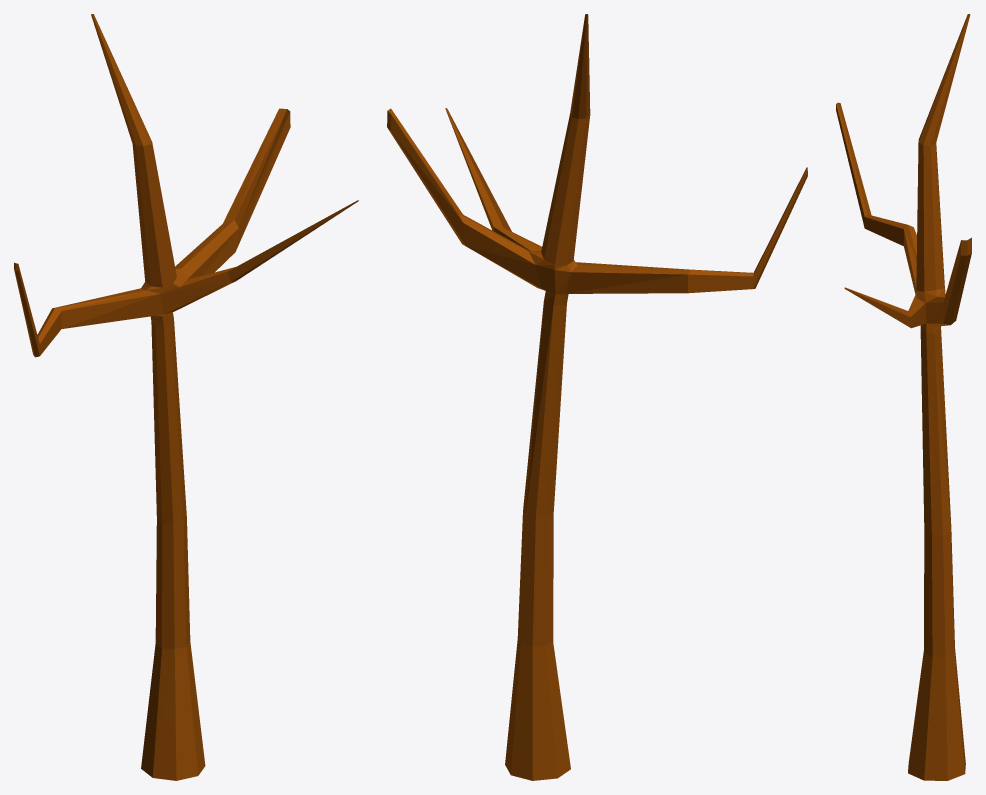
File: Vegetation_Modular_New_Tree_Trunk_02.FBX
3 renders of one model, left to right at view 1: azimuth 30°, elevation 25°; view 2: azimuth 150°, elevation 25°; view 3: azimuth 270°, elevation 25°, orthographic. The views are drawn at different scales.
Visible parts, largest first — view 1: Vegetation_Modular_New_Tree_Trunk_02; view 2: Vegetation_Modular_New_Tree_Trunk_02; view 3: Vegetation_Modular_New_Tree_Trunk_02.
Part boxes in pixels (x1=…): Vegetation_Modular_New_Tree_Trunk_02: x1=14, y1=14, x2=358, y2=780; Vegetation_Modular_New_Tree_Trunk_02: x1=387, y1=14, x2=807, y2=780; Vegetation_Modular_New_Tree_Trunk_02: x1=836, y1=14, x2=971, y2=780.
Size of the model in its own units: 3674 by 7644 by 1301.
